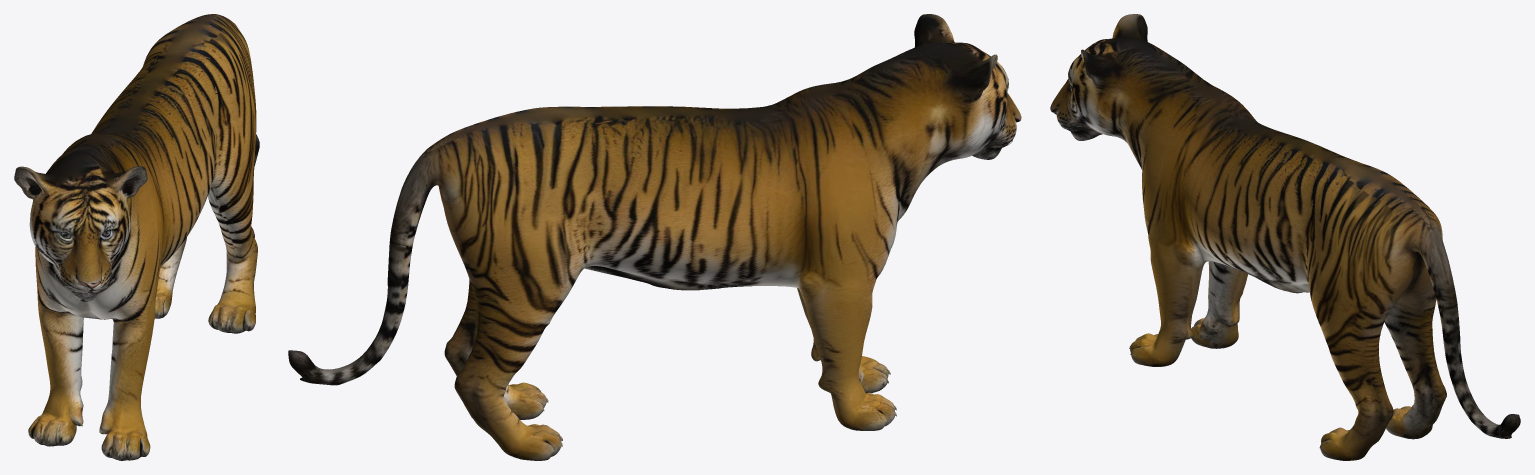
File: tiger--malayan.glb
3 views of the same model, side by side, from view 1: azimuth 30°, elevation 25°; view 2: azimuth 150°, elevation 25°; view 3: azimuth 270°, elevation 25° (orthographic). The views are drawn at different scales.
Visible parts, largest first — view 1: node_0; view 2: node_0; view 3: node_0.
Boxes of the visible parts, left/top/right/bottom form: node_0: left=14, top=14, right=259, bottom=460; node_0: left=288, top=14, right=1021, bottom=460; node_0: left=1050, top=14, right=1520, bottom=460.
Bounding box in the file's own units: 0.8371 × 0.5774 × 0.8361.
1 material, 1 textured.
